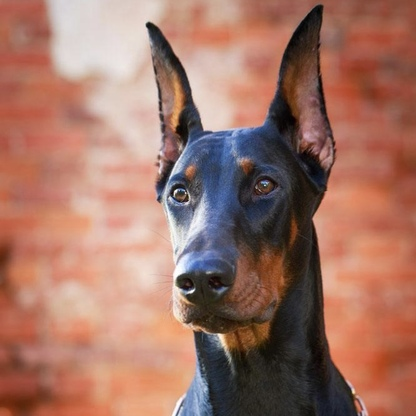doberman: (144, 14, 369, 416)
